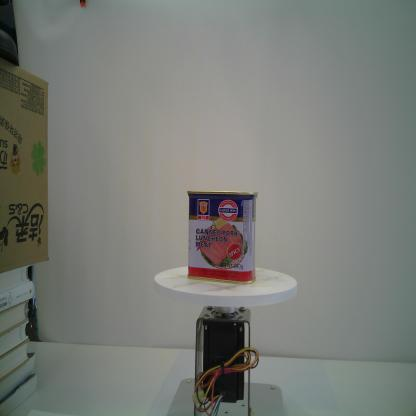Canned Food: (187, 190, 258, 285)
